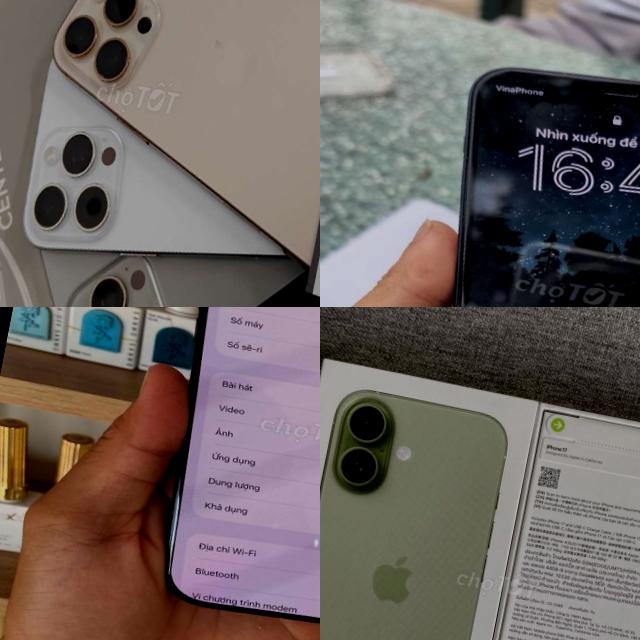gen_12_13: (375, 36, 640, 307)
gen_16: (21, 0, 320, 275), (129, 307, 320, 640)
gen_17: (320, 376, 520, 640)
